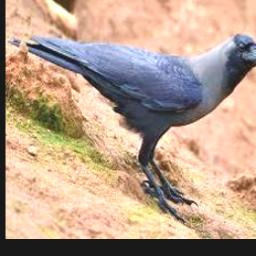Crow: (7, 32, 256, 222)
